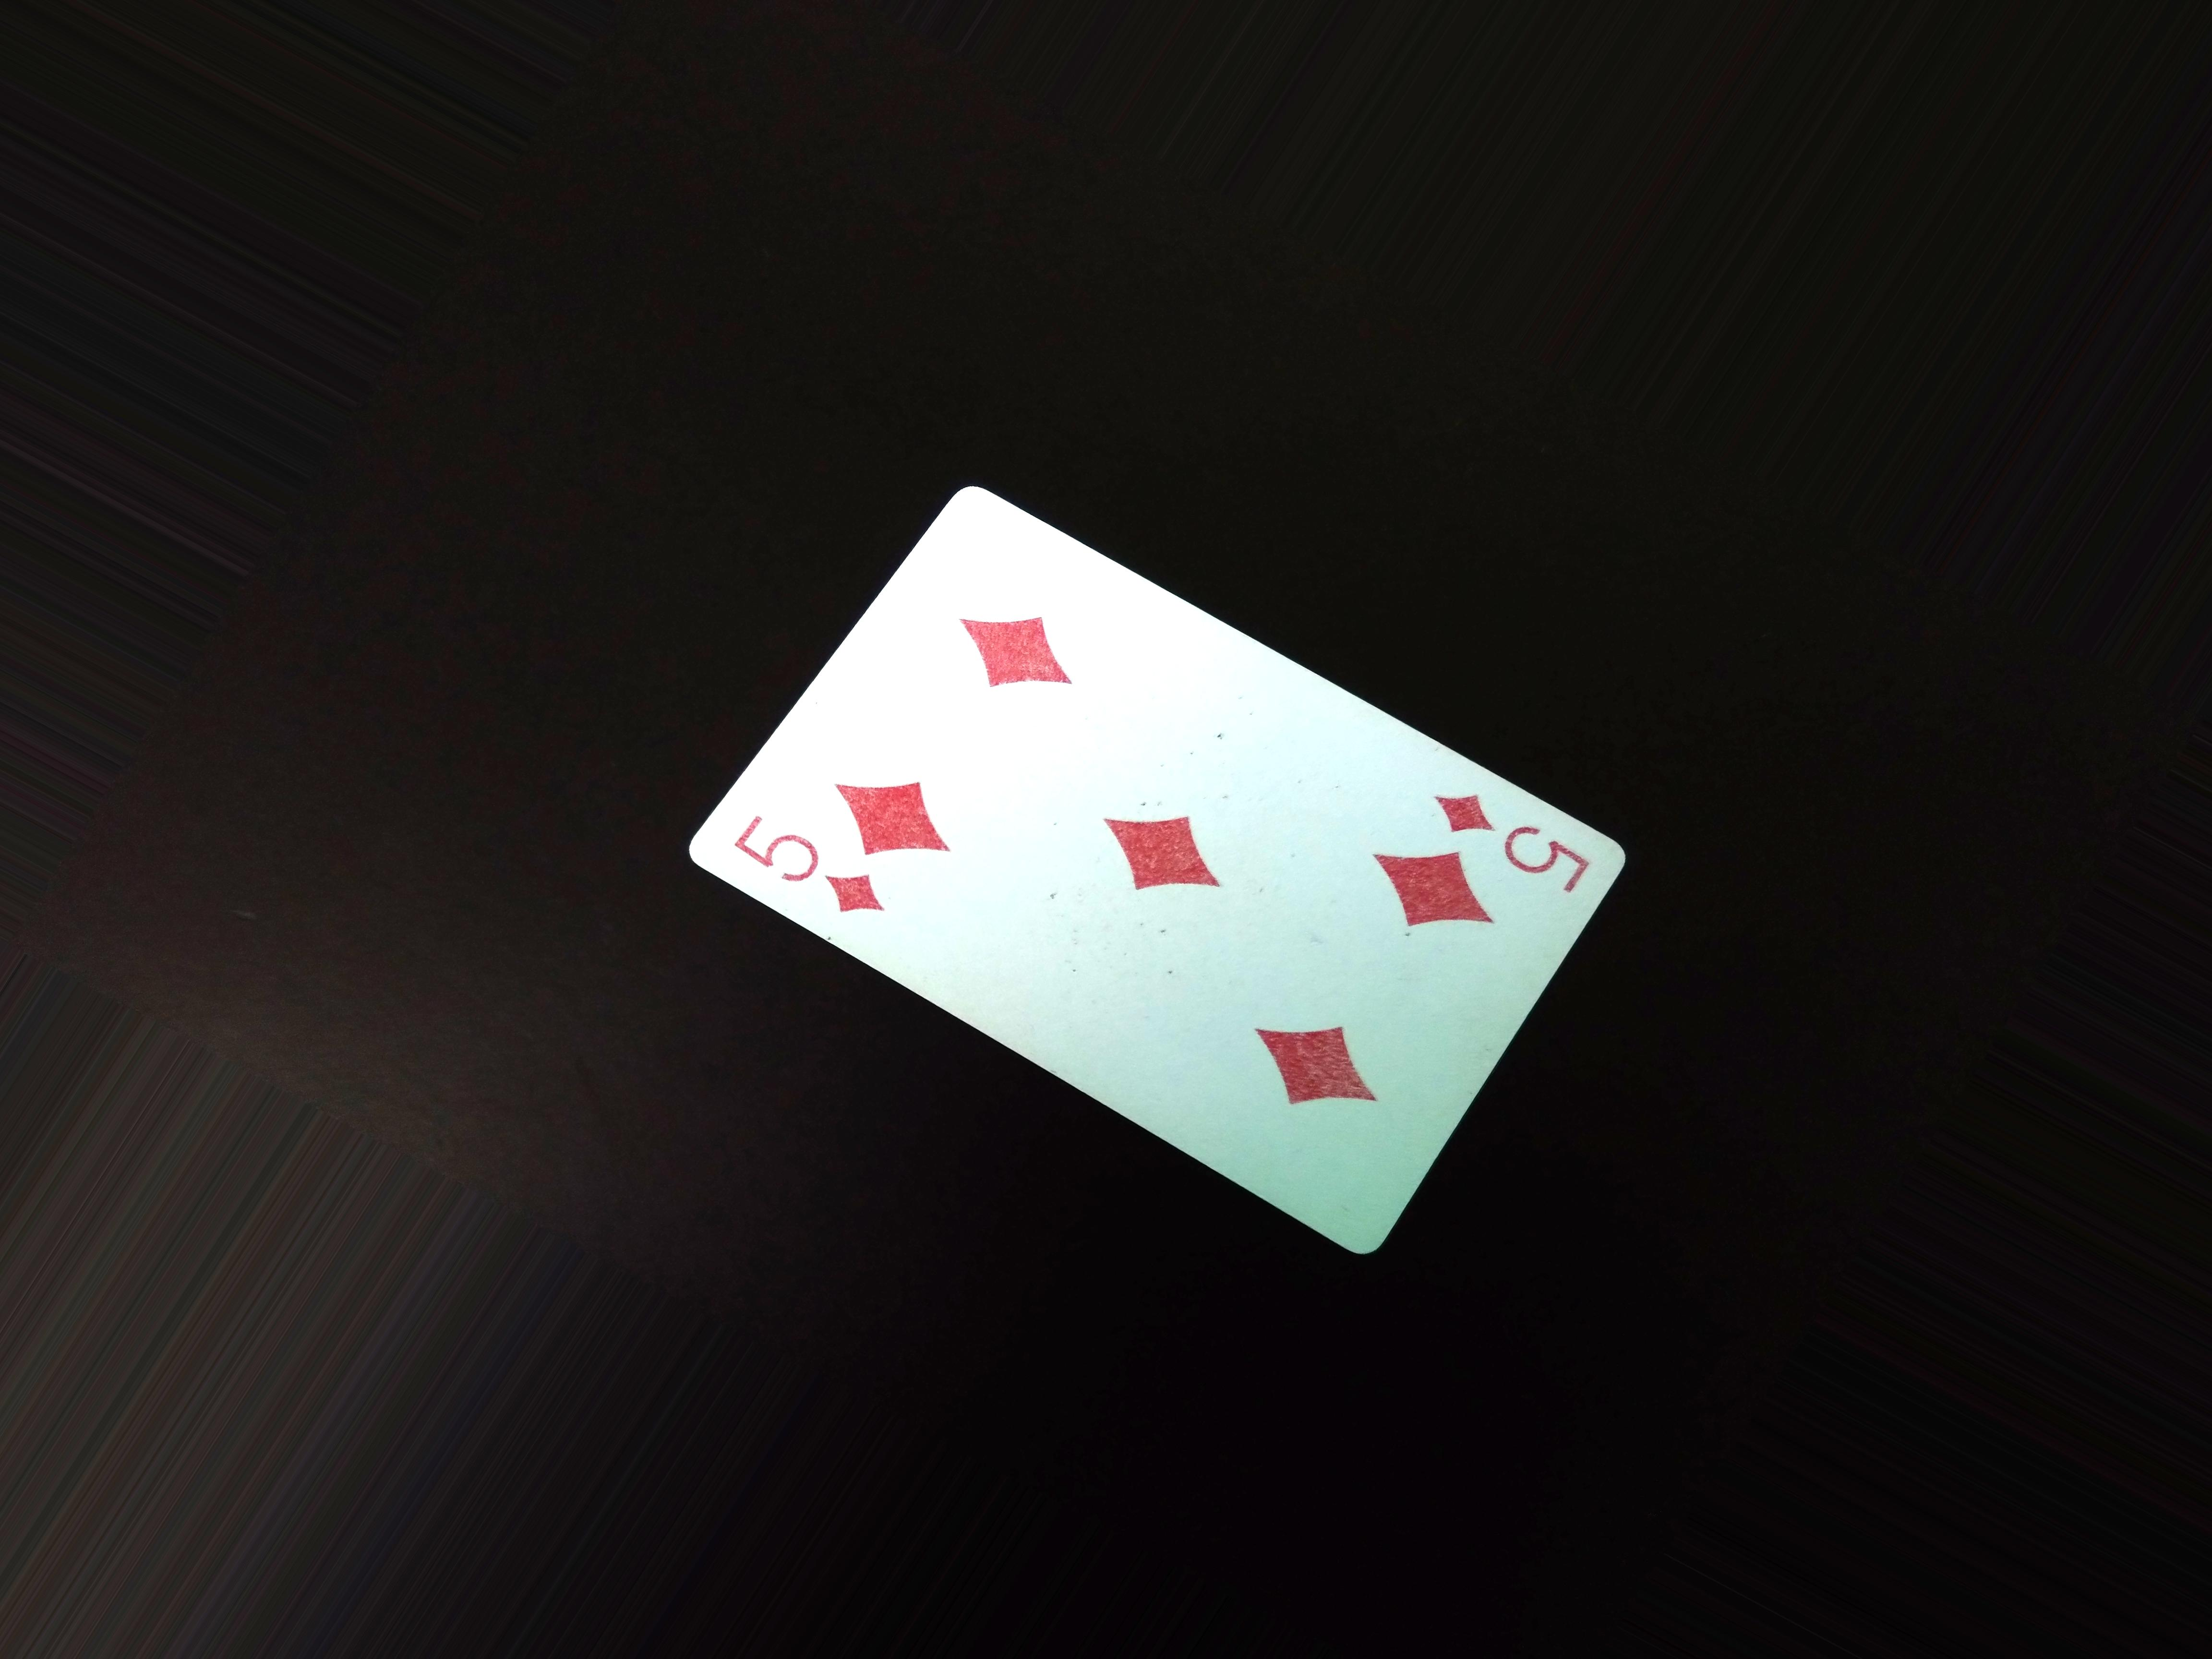5D: (716, 807, 888, 920)
